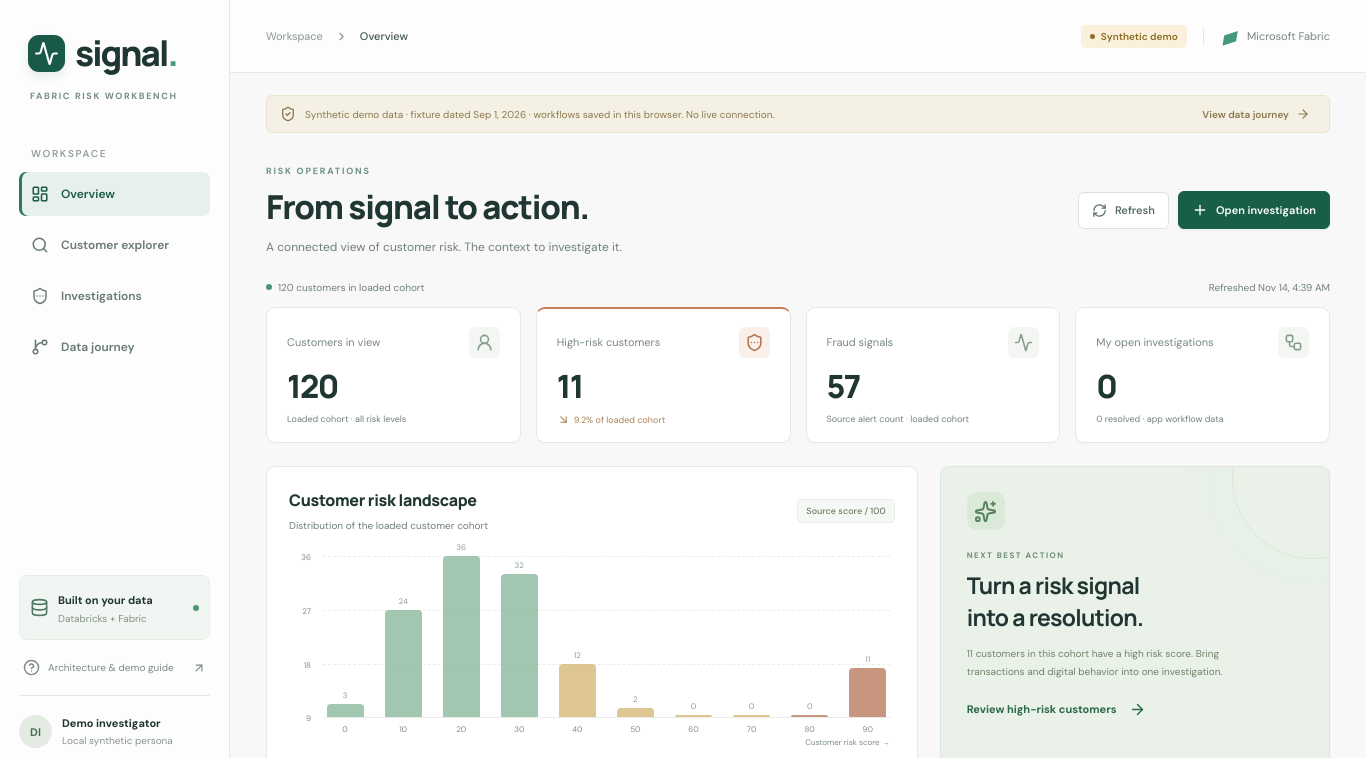
Test: customer investigation workflow › filters a cohort by customer ID and risk level
Expected: the text "Customers in view" is shown, [287,327,500,358]
Click the button "Customer explorer" at [114, 245], box [19,223,210,267]
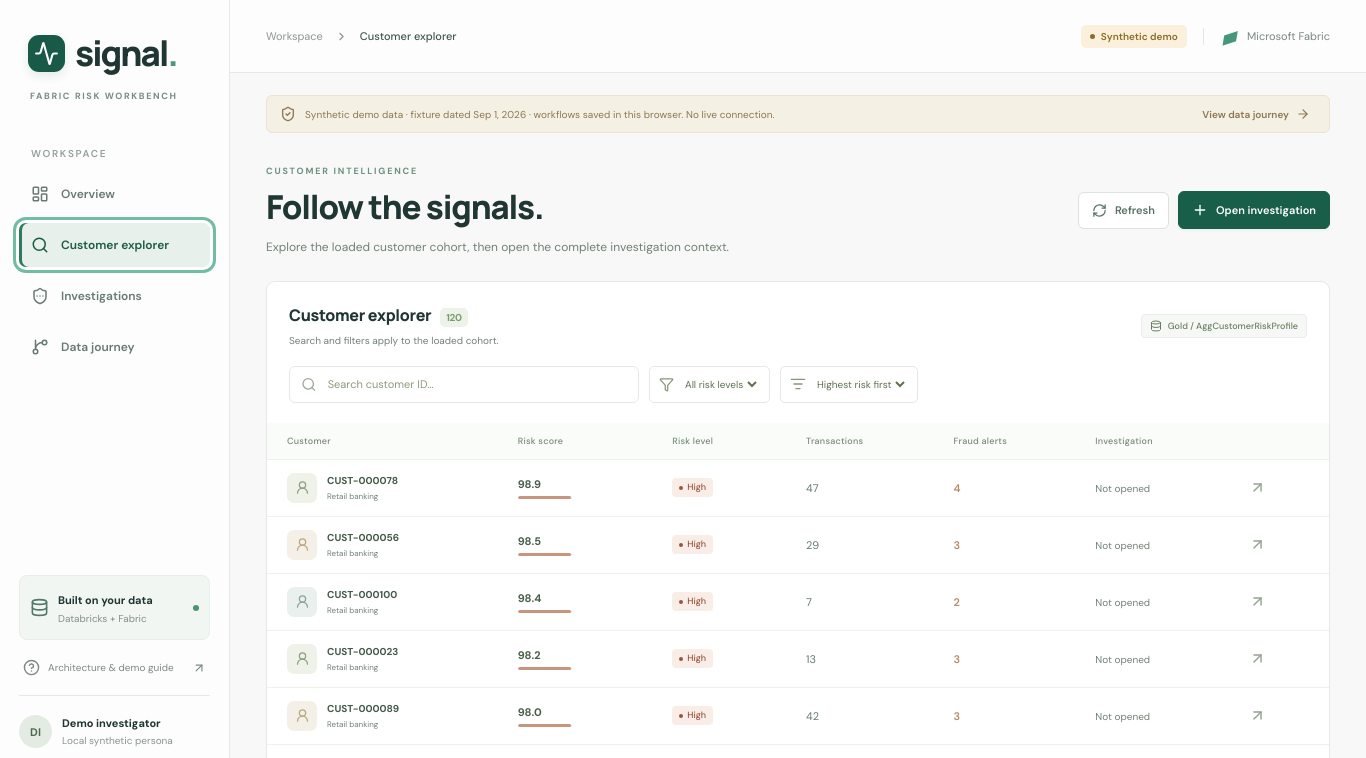
Type "CUST-000001" into the field named "Search customers" at [476, 384], box [326,376,627,392]
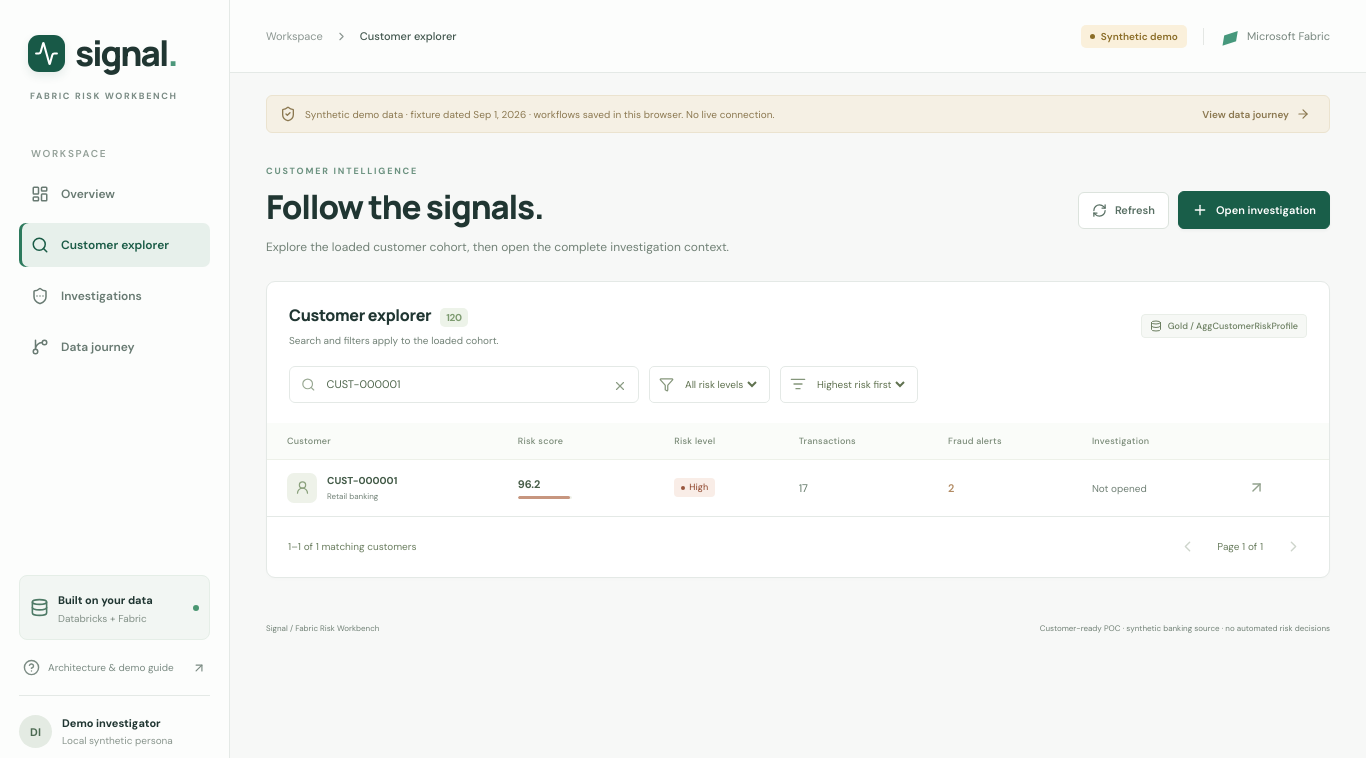
Expected: the text "CUST-000001" is shown once, [327,474,397,501]
Select "Low" in the dropdown named "Risk level" at [720, 384], box [681,377,760,392]
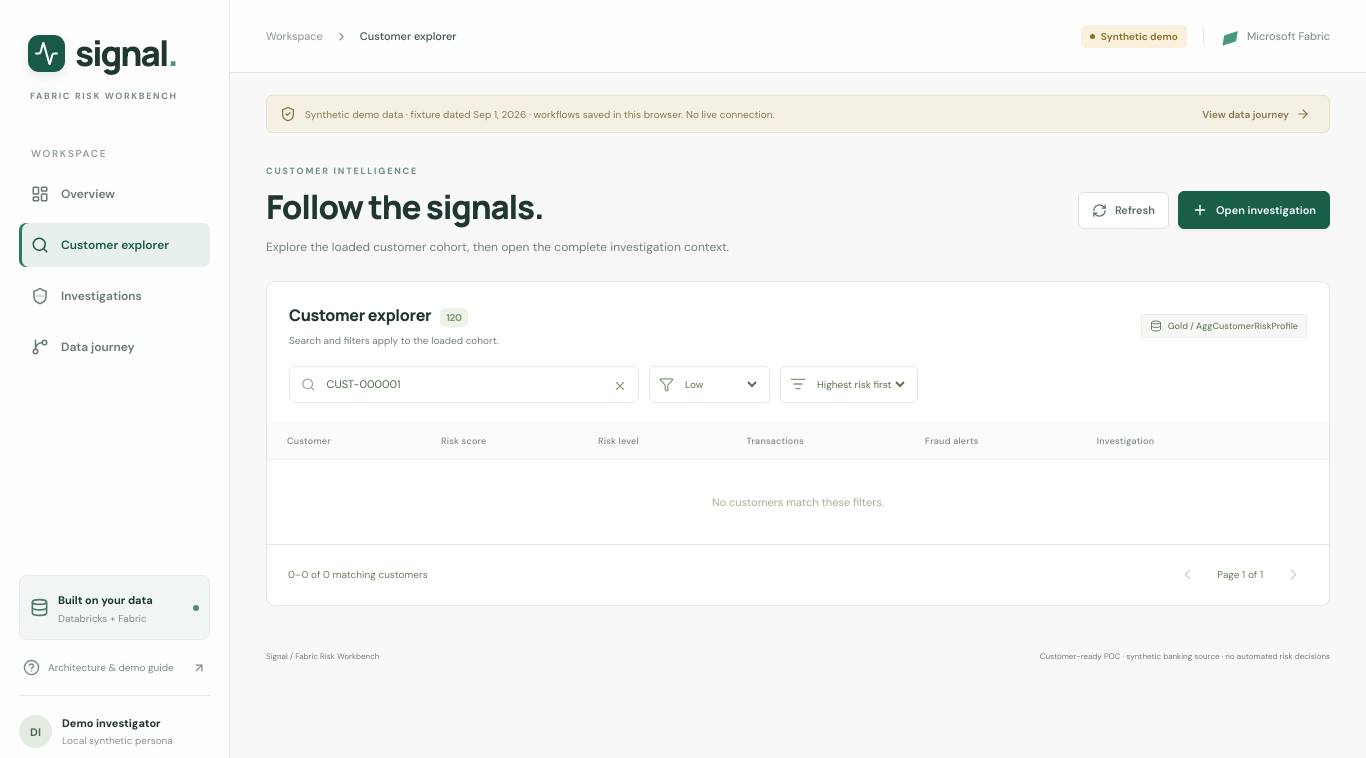
Expected: the text "No customers match these filters." is shown, [712,495,884,509]
